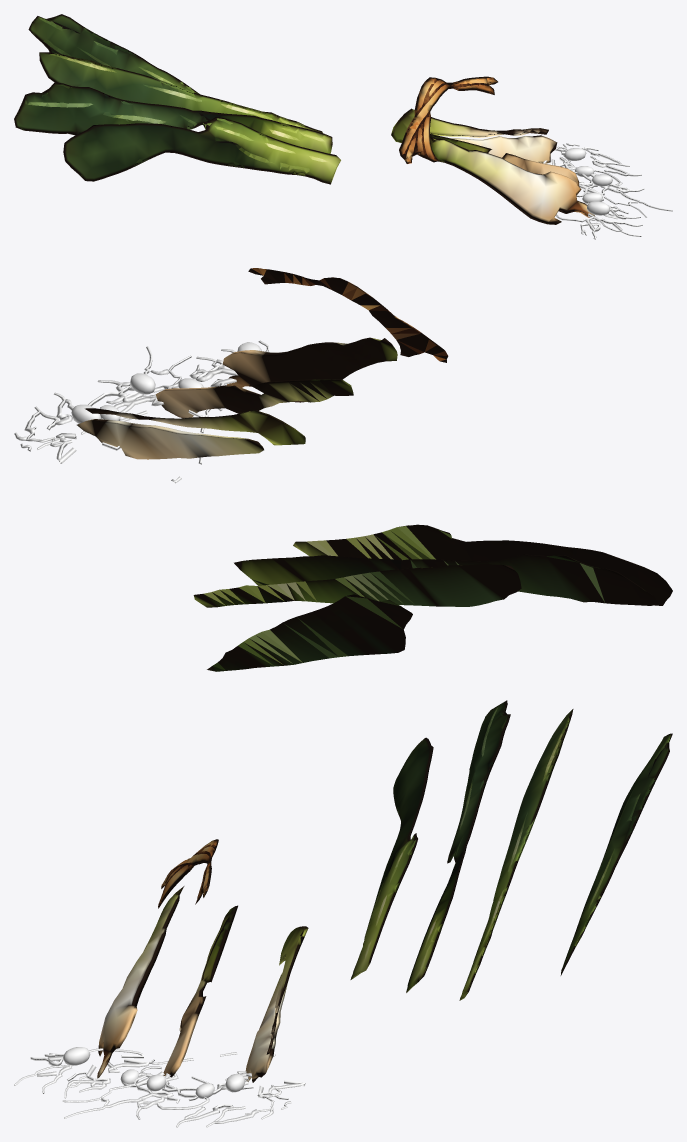
The model's file is SM_scallion.fbx.
3 renders of one model, top to bottom at view 1: azimuth 30°, elevation 25°; view 2: azimuth 150°, elevation 25°; view 3: azimuth 270°, elevation 25°, orthographic. The views are drawn at different scales.
Visible parts, largest first — view 1: SM_scallion; view 2: SM_scallion; view 3: SM_scallion.
Part boxes in pixels (left/top/right/bottom): SM_scallion: left=14, top=14, right=672, bottom=239; SM_scallion: left=14, top=268, right=672, bottom=671; SM_scallion: left=14, top=700, right=672, bottom=1127.
Size of the model in its own units: 0.2764 by 0.0704 by 0.2488.
